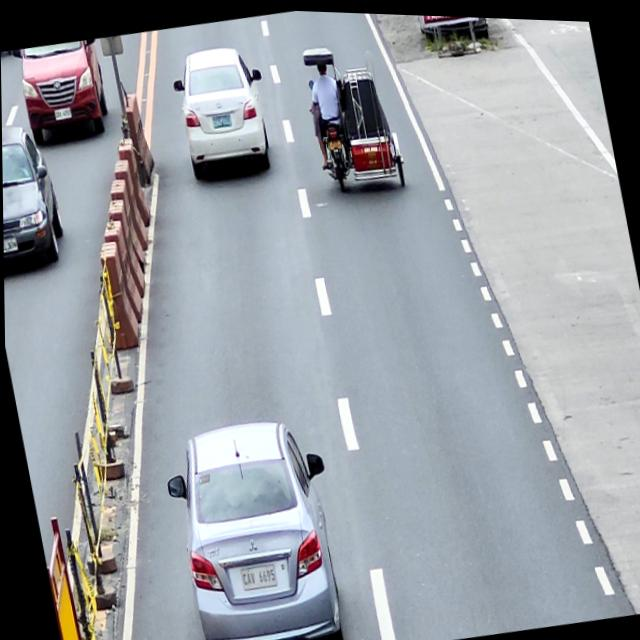Car: (155, 405, 356, 640), (168, 38, 279, 183), (16, 35, 114, 146), (1, 120, 69, 276)
License-Plate: (238, 562, 276, 588), (211, 112, 231, 127), (53, 106, 71, 120), (3, 236, 17, 252), (327, 135, 342, 148)
Tricycle: (300, 32, 408, 198)
